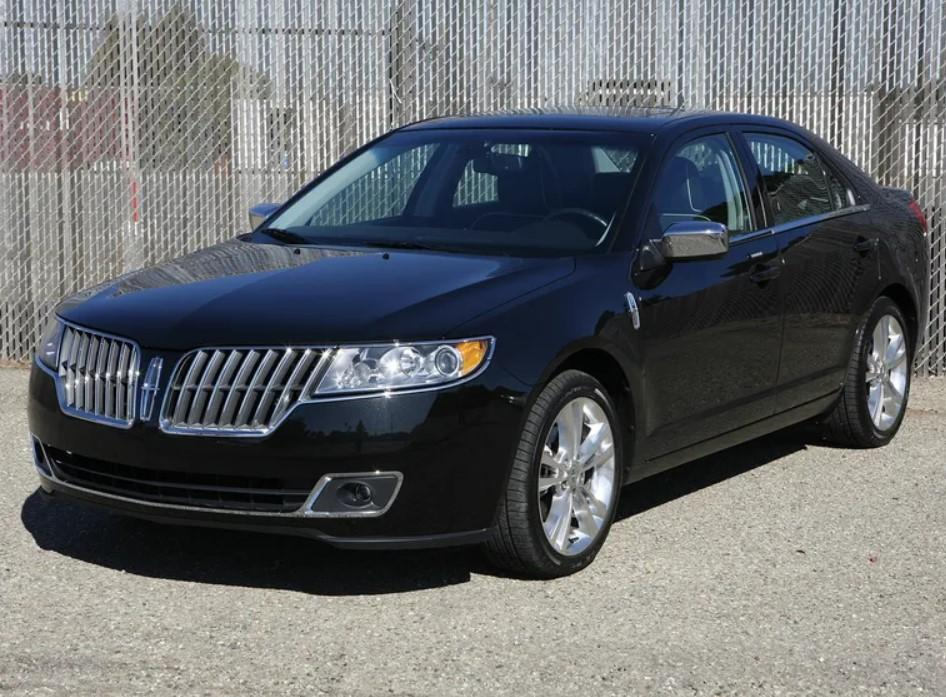lincoln: (129, 352, 175, 431)
